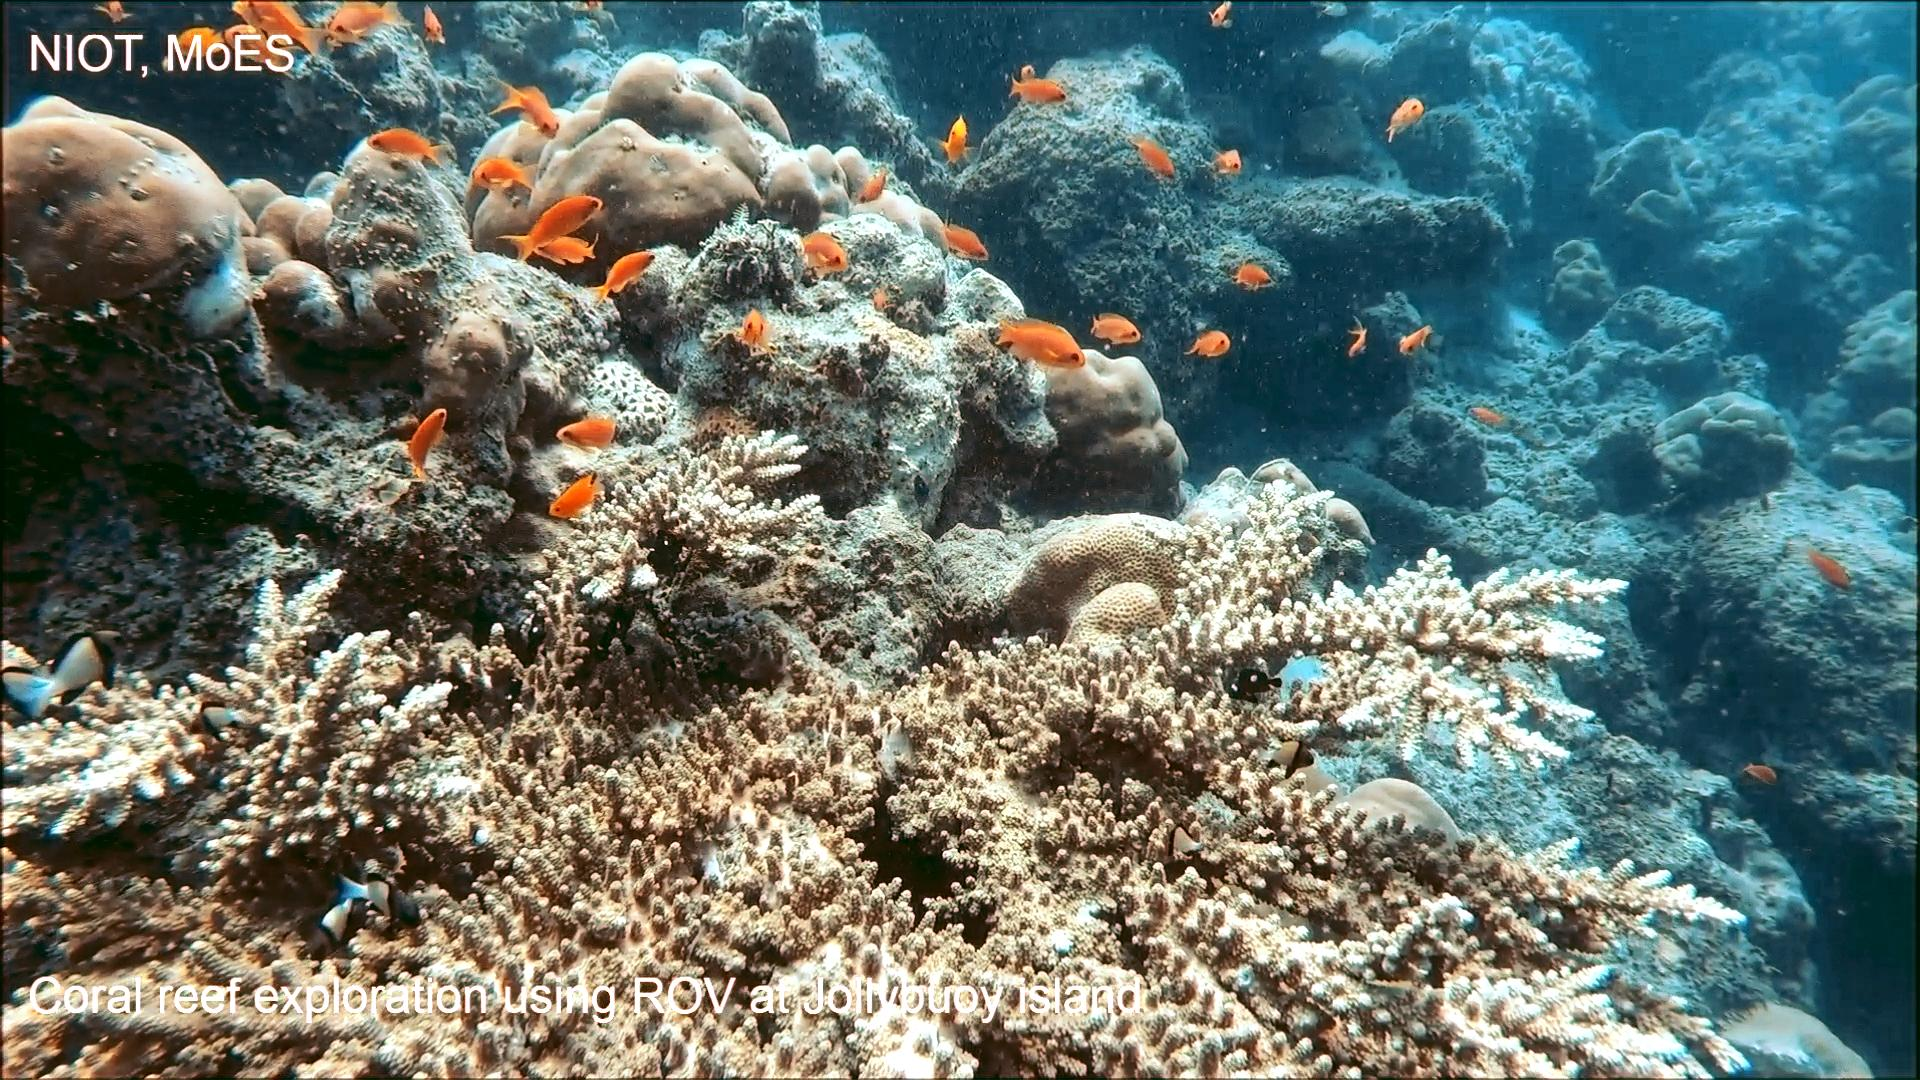Porites-Porites pukoensis: (456, 46, 827, 285), (0, 84, 251, 364)
